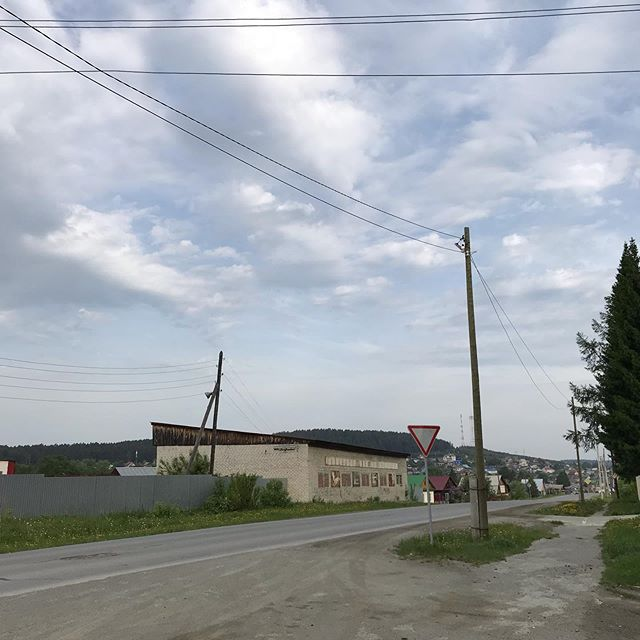building: (160, 433, 419, 511)
sign: (404, 420, 448, 458)
sky: (1, 1, 589, 437)
street: (1, 494, 519, 600)
tree: (570, 222, 640, 474)
